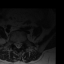CCS_normal: (17, 41, 19, 49)
LFS_normal: (21, 39, 24, 46)
LLS_normal: (19, 41, 21, 49)
RFS_normal: (13, 40, 15, 47)
RLS_normal: (15, 41, 17, 48)
